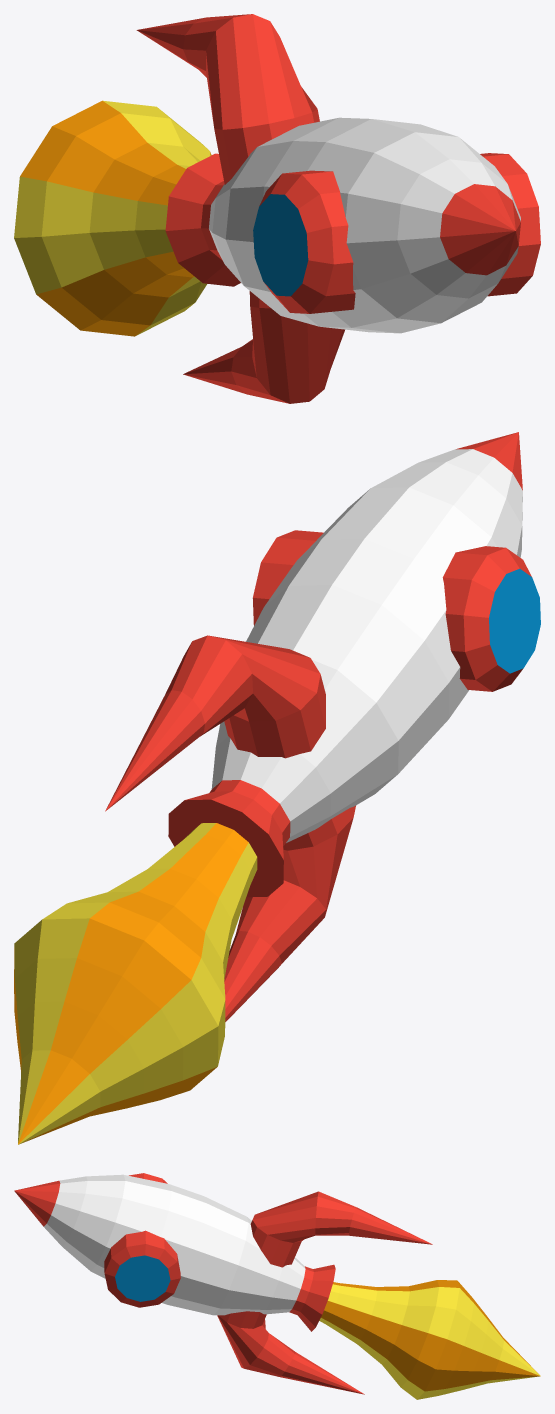
The model's file is rocketship.glb.
3 views of the same model, one above another, from view 1: azimuth 30°, elevation 25°; view 2: azimuth 150°, elevation 25°; view 3: azimuth 270°, elevation 25° (orthographic). The views are drawn at different scales.
Visible parts, largest first — view 1: group125571997; view 2: group125571997; view 3: group125571997.
Part boxes in pixels (x1,y1,x2,y2): group125571997: (14,14,540,403); group125571997: (14,432,540,1144); group125571997: (14,1173,540,1399).
Size of the model in its own units: 0.2155 by 0.3409 by 0.7566.
